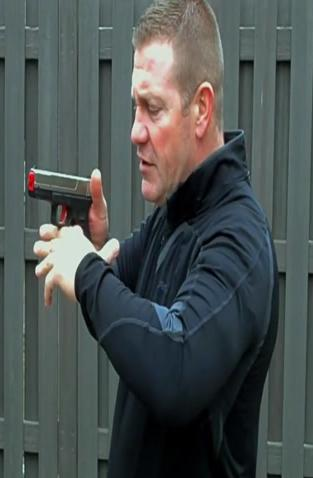pistol: (25, 163, 101, 267)
